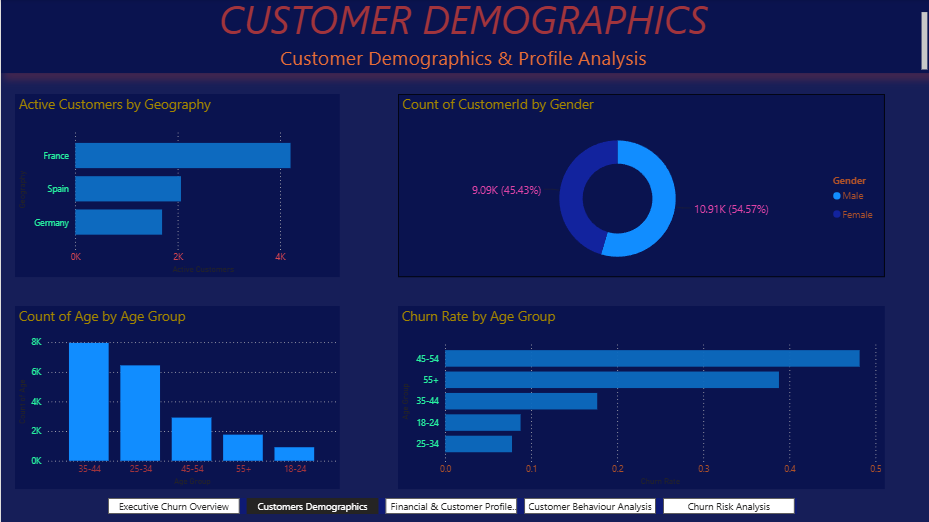

What the dashboard file says about the page in this screenshot:
{"tool":"powerbi","page":{"name":"Customers Demographics","canvas":[1280,720],"ordinal":1},"visuals":[{"type":"textbox","box":[0,0,1280,101.8],"z":0},{"type":"clusteredBarChart","fields":{"Category":["churn_modelling_db.Geography"],"Y":["ALL MEASURE.Active Customers"]},"box":[19.3,130.8,447.3,251.9],"z":1000},{"type":"columnChart","fields":{"Category":["customer table.Age Group"],"Y":["CountNonNull(customer table.Age)"]},"box":[19.3,422.5,447,252],"z":2000},{"type":"donutChart","fields":{"Category":["churn_modelling_db.Gender"],"Y":["CountNonNull(churn_modelling_db.CustomerId)"]},"box":[546.4,130.8,670.3,251.9],"z":3000},{"type":"barChart","fields":{"Category":["churn_modelling_db.Age Group"],"Y":["ALL MEASURE.Churn Rate"]},"box":[546.4,422.5,670.3,251.9],"z":4000},{"type":"pageNavigator","box":[147.3,686.8,948.3,22],"z":5000}]}

Visuals, with their boxes in screenshot pixels (x1, y1, x2, y2), scaled from the page's 1280x720 canvas onto the 929x522 screenshot:
textbox: <bbox>0, 0, 928, 74</bbox>
clusteredBarChart - churn_modelling_db.Geography x ALL MEASURE.Active Customers: <bbox>14, 95, 339, 277</bbox>
columnChart - customer table.Age Group x CountNonNull(customer table.Age): <bbox>14, 306, 338, 489</bbox>
donutChart - churn_modelling_db.Gender x CountNonNull(churn_modelling_db.CustomerId): <bbox>397, 95, 883, 277</bbox>
barChart - churn_modelling_db.Age Group x ALL MEASURE.Churn Rate: <bbox>397, 306, 883, 489</bbox>
pageNavigator: <bbox>107, 498, 795, 514</bbox>
